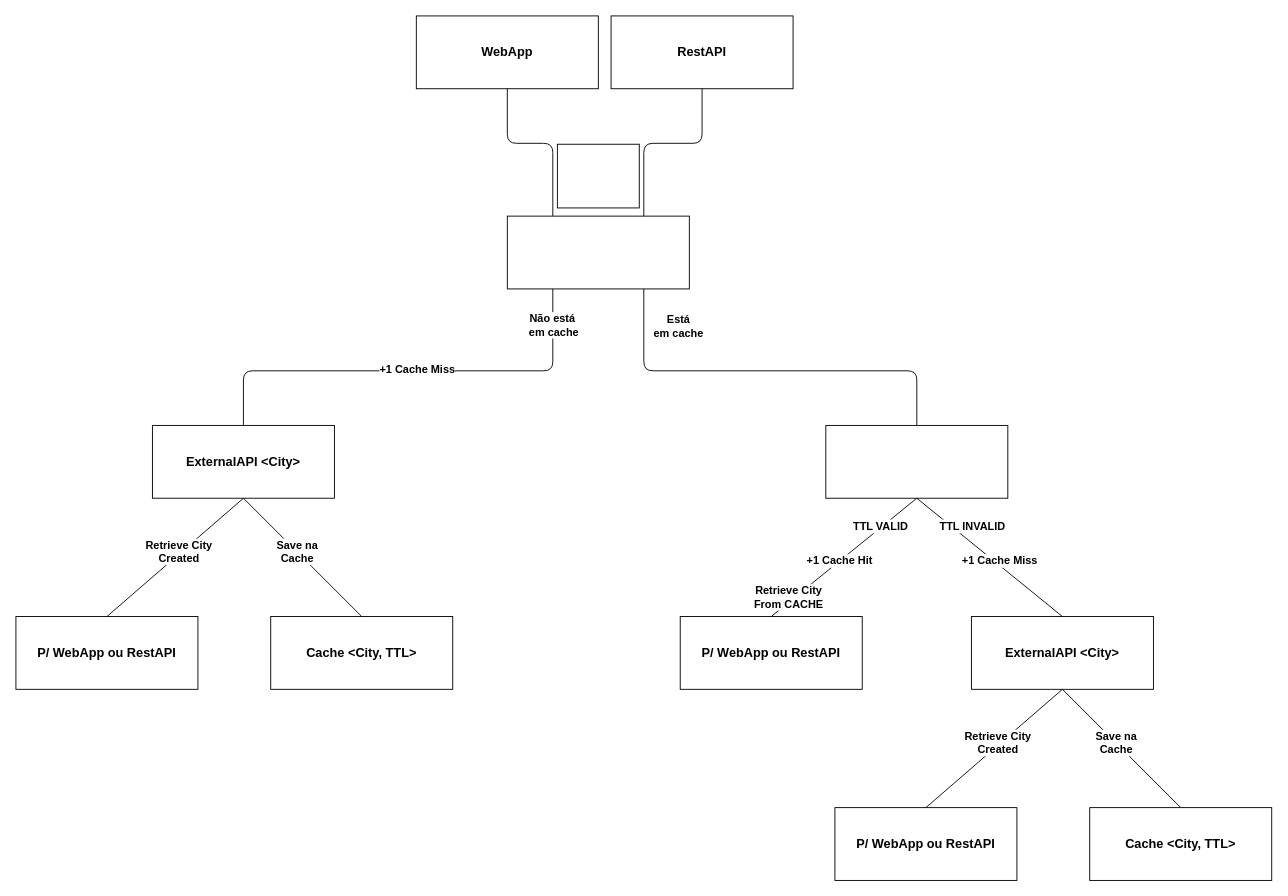
The diagram is 1288 pixels wide and 896 high, and some of its shapes have lost their labels. The shapes that lost their labels are listed below. From the top down, each one's centre as x and y in pixels, then its label:
At (x=597, y=175): "Pedido para obter cidade".
At (x=597, y=252): "Controller".
At (x=916, y=461): "CacheValid <City>".
